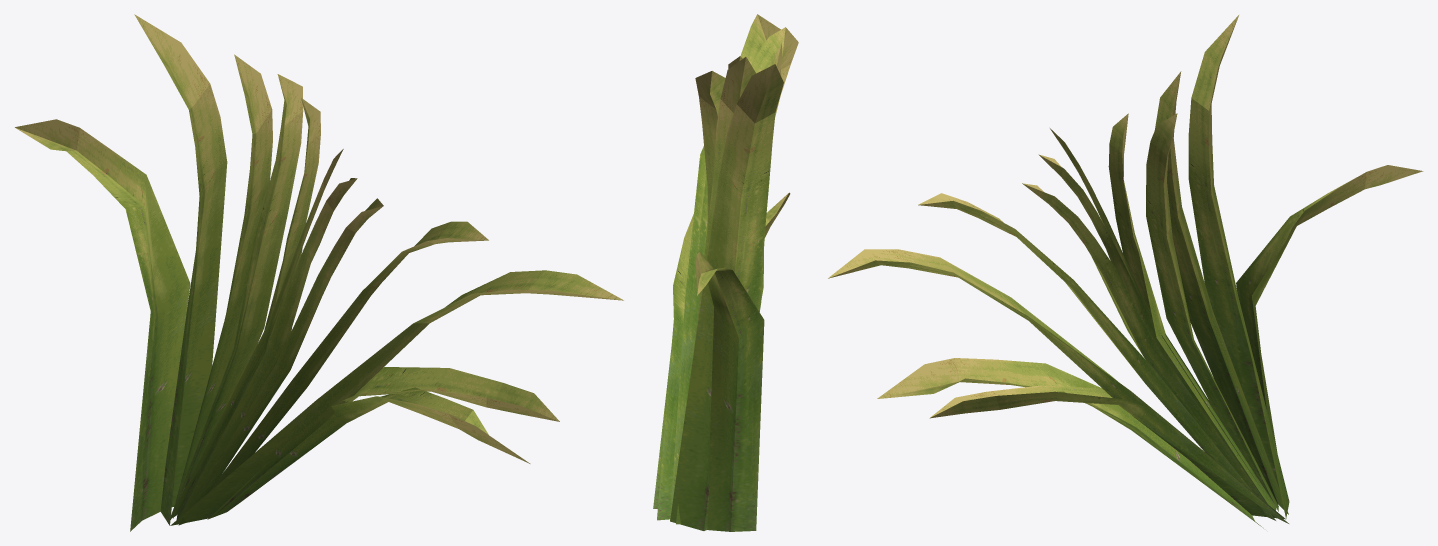
The model's file is grass3.fbx.
3 renders of one model, left to right at view 1: azimuth 30°, elevation 25°; view 2: azimuth 150°, elevation 25°; view 3: azimuth 270°, elevation 25°, orthographic. The views are drawn at different scales.
Parts seen in each view (by area): view 1: Grass_3; view 2: Grass_3; view 3: Grass_3.
Boxes of the visible parts, x1=… form: Grass_3: x1=15, y1=14, x2=623, y2=531; Grass_3: x1=653, y1=14, x2=798, y2=531; Grass_3: x1=828, y1=15, x2=1423, y2=528.
Bounding box in the file's own units: 0.0943 × 0.2051 × 0.1764.
1 material, 1 textured.
